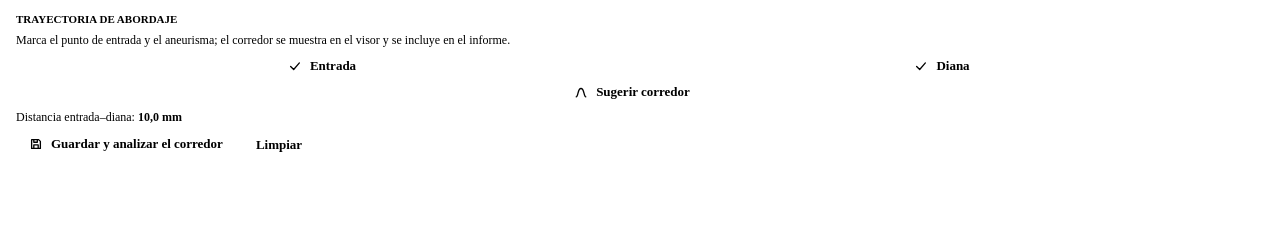
Test: TrajectoryTool · «Sugerir corredor» que falla › un 500 enseña la explicación del servidor y «Reintentar», que la borra
Step 1. Click the button "Sugerir corredor" → click(632, 92), box 16,84 -> 1248,100
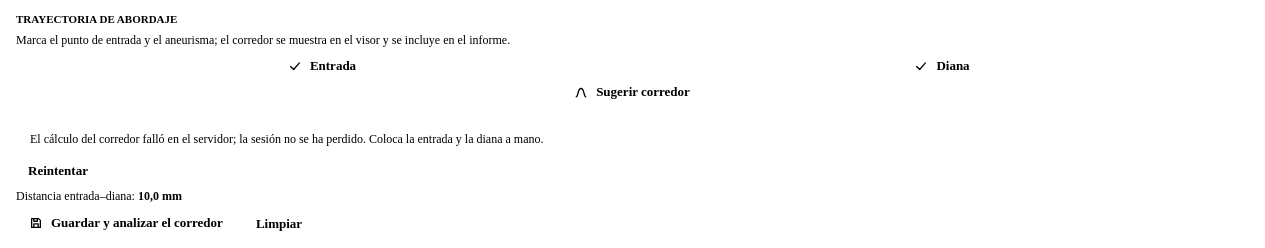
Now the text "Coloca la entrada y la diana a mano" is shown, box 30,132 -> 544,146
Step 2. Click the button "Reintentar" → click(58, 171), box 16,163 -> 100,179
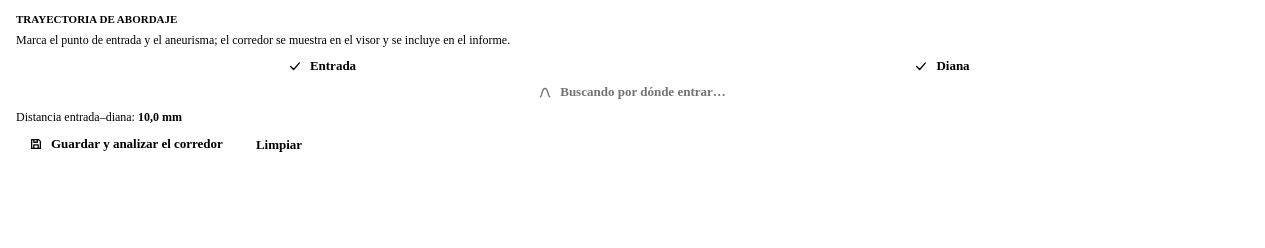
Now the text "Coloca la entrada y la diana a mano" is gone
